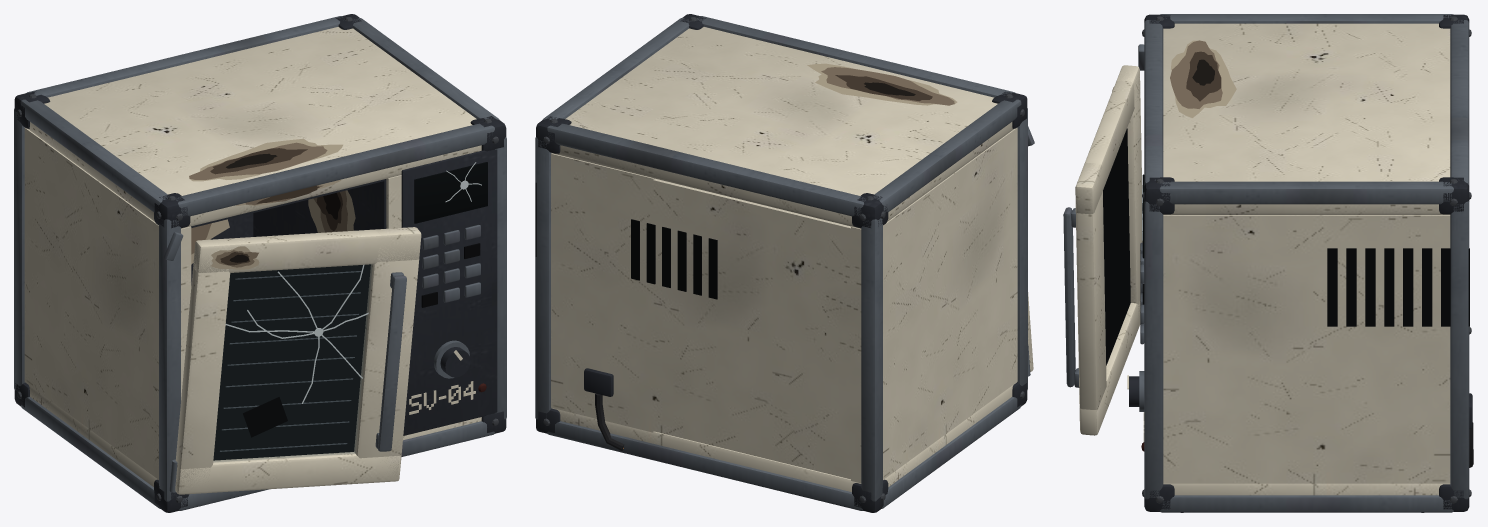
The model's file is broken_microwave.glb.
3 renders of one model, left to right at view 1: azimuth 30°, elevation 25°; view 2: azimuth 150°, elevation 25°; view 3: azimuth 270°, elevation 25°, orthographic. The views are drawn at different scales.
Visible parts, largest first — view 1: BrokenMicrowaveBody; view 2: BrokenMicrowaveBody; view 3: BrokenMicrowaveBody.
Boxes of the visible parts, bbox=[...] form: BrokenMicrowaveBody: bbox=[14, 14, 506, 512]; BrokenMicrowaveBody: bbox=[535, 14, 1034, 512]; BrokenMicrowaveBody: bbox=[1063, 14, 1473, 512].
Bounding box in the file's own units: 0.4913 × 0.432 × 0.4773.
15 materials, 6 textured.
